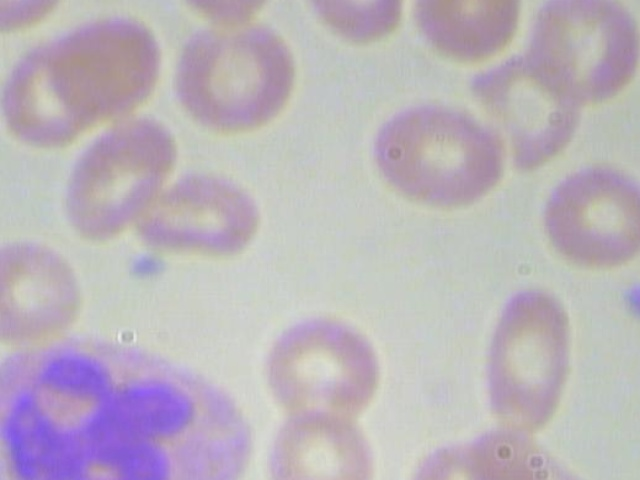Platelets: (128, 250, 180, 287), (624, 282, 640, 324)
RBC: (167, 9, 302, 141), (364, 94, 506, 211), (59, 113, 175, 251), (131, 162, 273, 274), (261, 308, 389, 427), (479, 279, 573, 440), (48, 5, 170, 118), (520, 0, 640, 114), (536, 162, 640, 279), (0, 235, 93, 347), (264, 410, 387, 480), (402, 0, 525, 67), (299, 0, 408, 51), (0, 0, 73, 35)
WBC: (0, 326, 270, 480)
